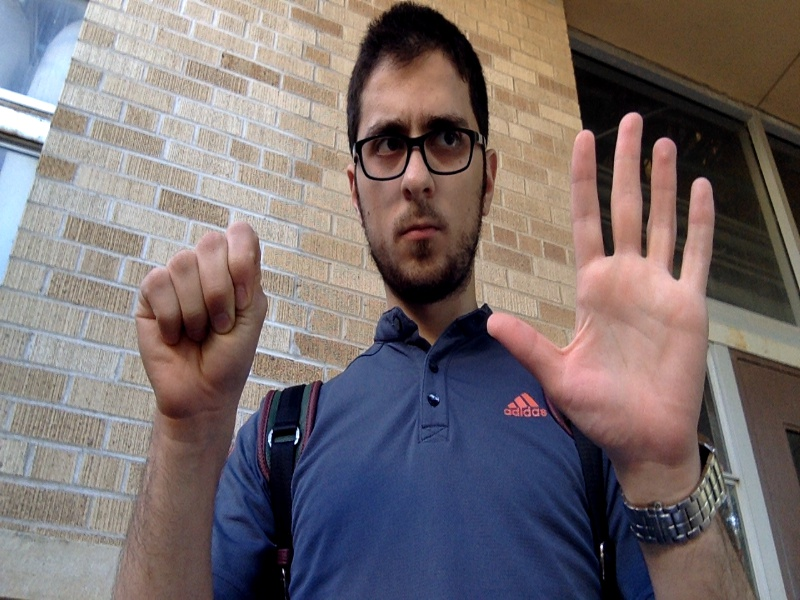0-hand: (137, 223, 268, 416)
5-hand: (486, 112, 714, 455)
